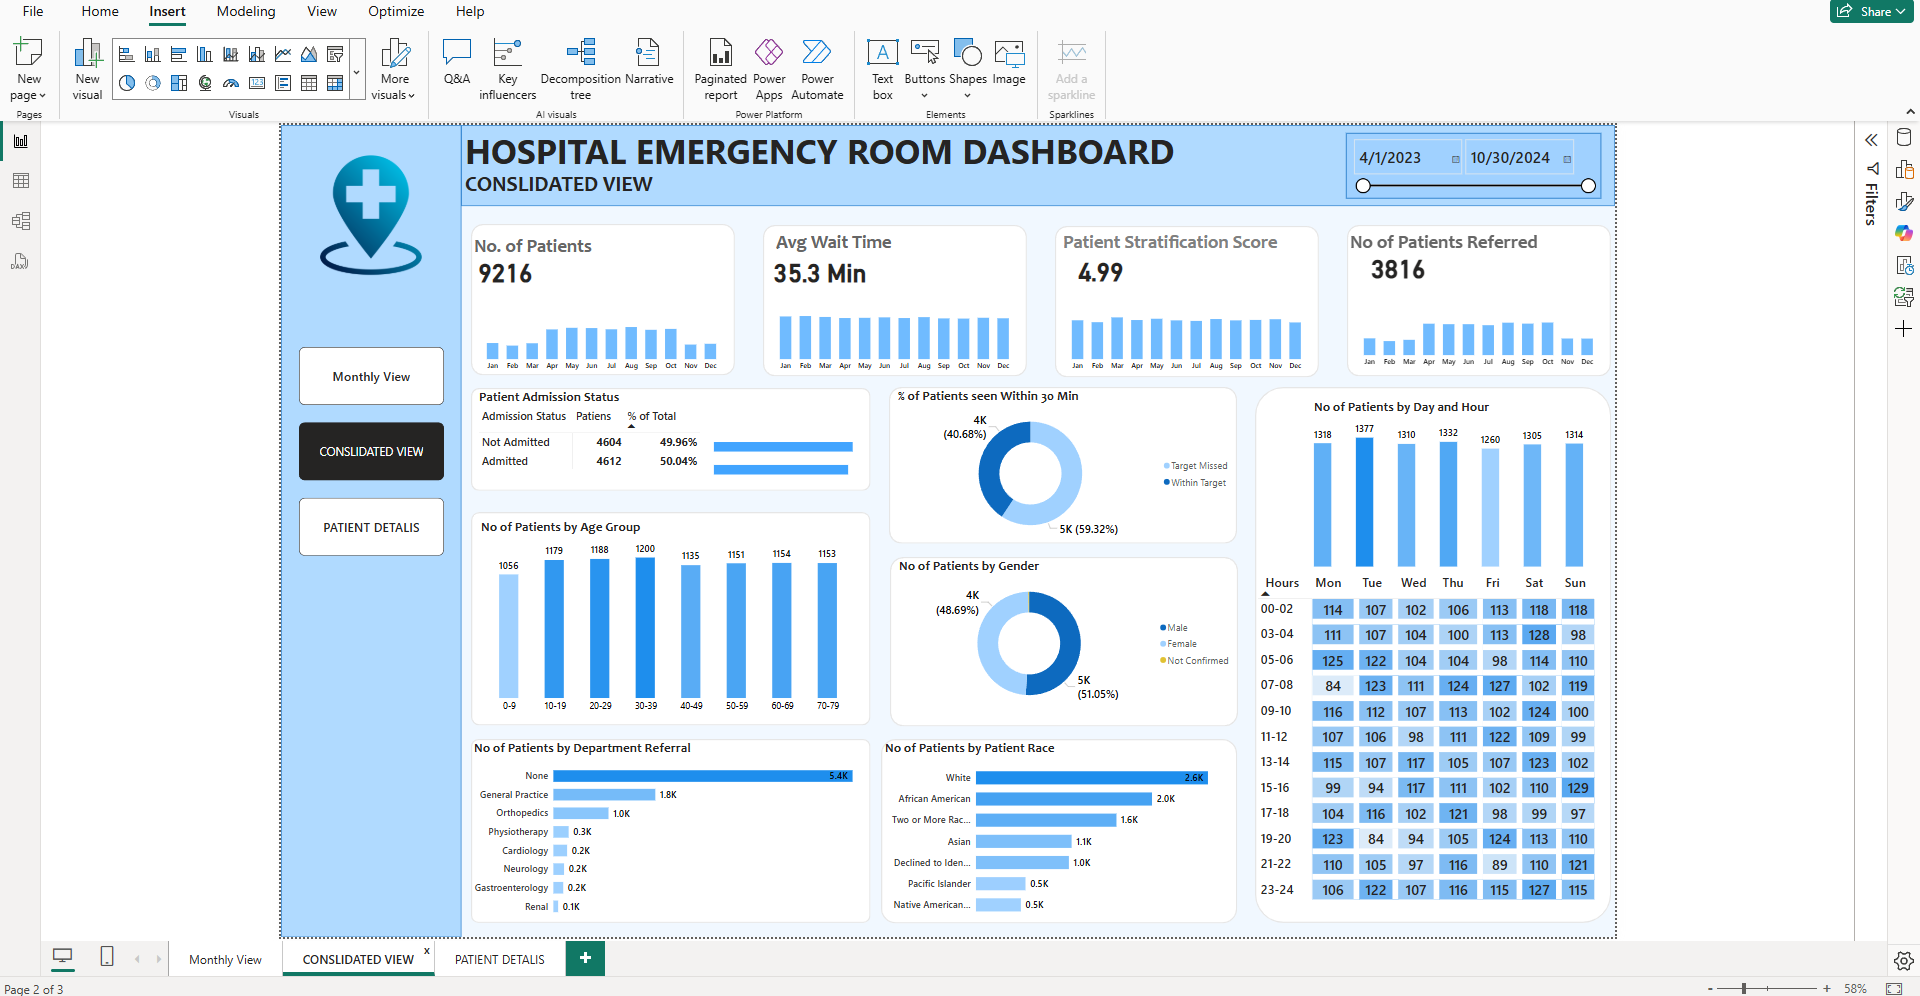

The page's visual inventory and layout, read from the dashboard file:
{"tool":"powerbi","page":{"name":"CONSLIDATED VIEW","canvas":[2300,1400],"ordinal":1},"visuals":[{"type":"shape","box":[0,0,311,1400.5],"z":0},{"type":"shape","box":[311,0,1989,139.8],"z":1000},{"type":"textbox","box":[311.7,0,1263.3,90],"z":2000},{"type":"textbox","box":[311.7,71.7,365,70],"z":3000},{"type":"shape","box":[327.7,171.1,455,260.9],"z":4000},{"type":"card","fields":{"Values":["_Meaures.No_Of_Patiens"]},"box":[306.1,211.9,159.4,77.9],"z":5000},{"type":"slicer","fields":{"Values":["Date Table.Date"]},"box":[1836.7,13.3,440,113.3],"z":6000},{"type":"textbox","box":[327.8,184.7,273.5,52.5],"z":8000},{"type":"shape","box":[830.8,172.8,455,260.9],"z":10000},{"type":"card","fields":{"Values":["_Meaures.AVG_Wait_Time"]},"box":[842.1,211.9,175.7,77.9],"z":11000},{"type":"textbox","box":[847.6,177.5,273.5,54.3],"z":12000},{"type":"shape","box":[1334,174.7,455,260.9],"z":13000},{"type":"card","fields":{"Values":["_Meaures.Stratification_Score"]},"box":[1334.7,210.1,157.6,77.9],"z":14000},{"type":"textbox","box":[1343.8,177.5,402,54.3],"z":15000},{"type":"shape","box":[1837.1,173,455,260.9],"z":16000},{"type":"card","fields":{"Values":["_Meaures.No of Patient Refferd"]},"box":[1847.2,204.6,159.4,77.9],"z":17000},{"type":"textbox","box":[1838.2,177.5,387.6,54.3],"z":18000},{"type":"columnChart","fields":{"Y":["_Meaures.No of Patient Refferd"],"Category":["Date Table.Month Name"]},"box":[1849.1,302.4,432.8,125],"z":19000},{"type":"columnChart","fields":{"Category":["Date Table.Month Name"],"Y":["_Meaures.Stratification_Score"]},"box":[1345.6,307.9,432.8,125],"z":20000},{"type":"columnChart","fields":{"Y":["_Meaures.No_Of_Patiens"],"Category":["Date Table.Month Name"]},"box":[336.8,308.3,433.3,125],"z":21000},{"type":"shape","box":[327.7,452.9,688.7,177.4],"z":22000},{"type":"columnChart","fields":{"Category":["Date Table.Month Name"],"Y":["Avg(Hospital ER_Data.Patient Waittime)"]},"box":[842.1,307.9,432.8,125],"z":23000},{"type":"pivotTable","title":"Patient Admission Status","fields":{"Rows":["Hospital ER_Data.Admission Status"],"Values":["_Meaures.No_Of_Patiens1","_Meaures.No_Of_Patiens"]},"box":[336,452.9,423.7,177.4],"z":24000},{"type":"barChart","fields":{"Category":["Hospital ER_Data.Admission Status"],"Y":["_Meaures.No of Patient Refferd"]},"box":[740.9,513.4,256.7,116.9],"z":25000},{"type":"shape","box":[327.7,667.9,688.7,368],"z":26000},{"type":"clusteredColumnChart","title":"No of Patients by Age Group","fields":{"Category":["Hospital ER_Data.Age Group"],"Y":["_Meaures.No_Of_Patiens"]},"box":[340.2,678.3,657.4,344.4],"z":27000},{"type":"shape","box":[327.7,1058.2,688.7,317.2],"z":28000},{"type":"clusteredBarChart","title":"No of Patients by Department Referral","fields":{"Category":["Hospital ER_Data.Department Referral"],"Y":["_Meaures.No_Of_Patiens"]},"box":[327.7,1058.2,688.7,317.2],"z":29000},{"type":"shape","box":[1048,452,600,270],"z":30000},{"type":"donutChart","title":"% of Patients seen Within 30 Min","fields":{"Category":["Hospital ER_Data.Waittime Status"],"Y":["_Meaures.No_Of_Patiens"]},"box":[1058,452,588,270],"z":31000},{"type":"shape","box":[1050,744,600,292],"z":32000},{"type":"donutChart","title":"No of Patients by Gender","fields":{"Y":["_Meaures.No_Of_Patiens"],"Category":["Hospital ER_Data.Patient Gender"]},"box":[1060,744,588,270],"z":33000},{"type":"shape","box":[1034,1058,614,318],"z":34000},{"type":"clusteredBarChart","title":"No of Patients by Patient Race","fields":{"Y":["_Meaures.No_Of_Patiens"],"Category":["Hospital ER_Data.Patient Race"]},"box":[1036,1058,596,318],"z":35000},{"type":"shape","box":[1680,452,614,924],"z":36000},{"type":"pivotTable","fields":{"Rows":["Hospital ER_Data.waittime Interval"],"Columns":["Date Table.Day Name"],"Values":["_Meaures.No_Of_Patiens"]},"box":[1680,766.7,611.7,608.3],"z":37000},{"type":"columnChart","title":"No of Patients by Day and Hour","fields":{"Category":["Date Table.Day Name"],"Y":["_Meaures.No_Of_Patiens"]},"box":[1776.7,470,476.7,296.7],"z":38000},{"type":"image","box":[46.7,45,216.7,220],"z":39000},{"type":"pageNavigator","box":[30.4,383.3,250.5,360.6],"z":39003}]}

Visuals, with their boxes on the page's 2300x1400 design canvas (x1, y1, x2, y2). These are canvas units, not pixel positions in the 1920x996 screenshot, which may show the page scaled, cropped or inside an application window:
shape: [0, 0, 311, 1400]
shape: [311, 0, 2300, 140]
textbox: [312, 0, 1575, 90]
textbox: [312, 72, 677, 142]
shape: [328, 171, 783, 432]
card - _Meaures.No_Of_Patiens: [306, 212, 466, 290]
slicer - Date Table.Date: [1837, 13, 2277, 127]
textbox: [328, 185, 601, 237]
shape: [831, 173, 1286, 434]
card - _Meaures.AVG_Wait_Time: [842, 212, 1018, 290]
textbox: [848, 178, 1121, 232]
shape: [1334, 175, 1789, 436]
card - _Meaures.Stratification_Score: [1335, 210, 1492, 288]
textbox: [1344, 178, 1746, 232]
shape: [1837, 173, 2292, 434]
card - _Meaures.No of Patient Refferd: [1847, 205, 2007, 282]
textbox: [1838, 178, 2226, 232]
columnChart - _Meaures.No of Patient Refferd x Date Table.Month Name: [1849, 302, 2282, 427]
columnChart - Date Table.Month Name x _Meaures.Stratification_Score: [1346, 308, 1778, 433]
columnChart - _Meaures.No_Of_Patiens x Date Table.Month Name: [337, 308, 770, 433]
shape: [328, 453, 1016, 630]
columnChart - Date Table.Month Name x Avg(Hospital ER_Data.Patient Waittime): [842, 308, 1275, 433]
"Patient Admission Status" pivotTable: [336, 453, 760, 630]
barChart - Hospital ER_Data.Admission Status x _Meaures.No of Patient Refferd: [741, 513, 998, 630]
shape: [328, 668, 1016, 1036]
"No of Patients by Age Group" clusteredColumnChart: [340, 678, 998, 1023]
shape: [328, 1058, 1016, 1375]
"No of Patients by Department Referral" clusteredBarChart: [328, 1058, 1016, 1375]
shape: [1048, 452, 1648, 722]
"% of Patients seen Within 30 Min" donutChart: [1058, 452, 1646, 722]
shape: [1050, 744, 1650, 1036]
"No of Patients by Gender" donutChart: [1060, 744, 1648, 1014]
shape: [1034, 1058, 1648, 1376]
"No of Patients by Patient Race" clusteredBarChart: [1036, 1058, 1632, 1376]
shape: [1680, 452, 2294, 1376]
pivotTable - Hospital ER_Data.waittime Interval x Date Table.Day Name: [1680, 767, 2292, 1375]
"No of Patients by Day and Hour" columnChart: [1777, 470, 2253, 767]
image: [47, 45, 263, 265]
pageNavigator: [30, 383, 281, 744]
